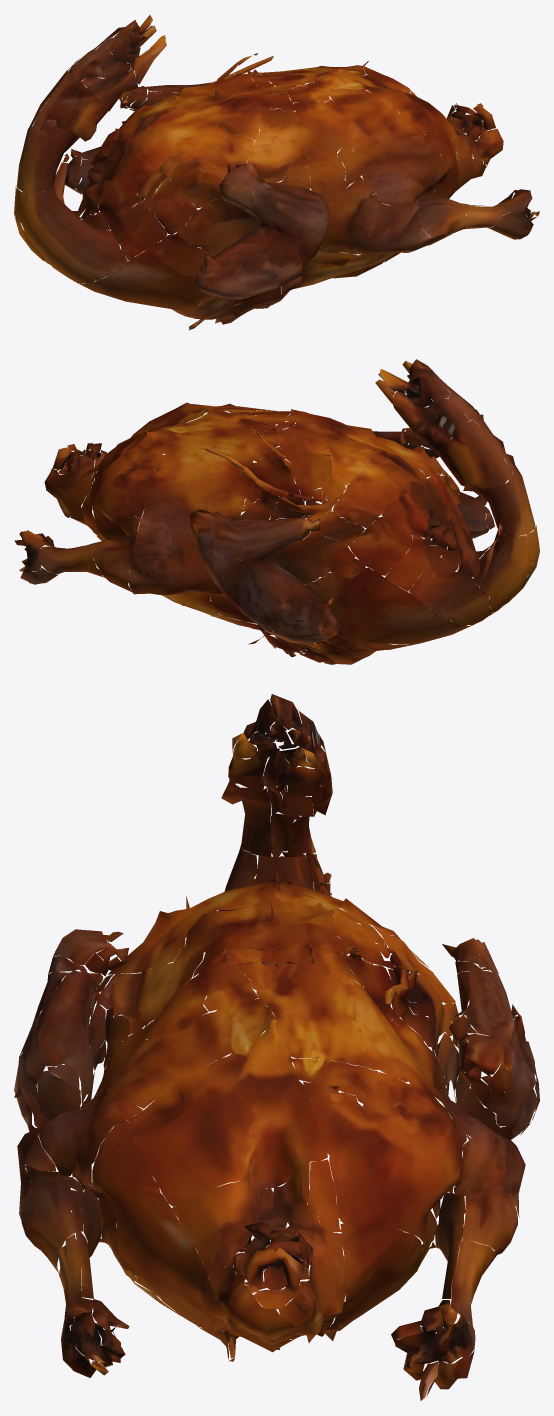
File: cooked_sea_bird.glb
3 views of the same model, one above another, from view 1: azimuth 30°, elevation 25°; view 2: azimuth 150°, elevation 25°; view 3: azimuth 270°, elevation 25° (orthographic). The views are drawn at different scales.
Visible parts, largest first — view 1: tripo_node_e904d48e-e323-4d41-8091-ff12e71c5930; view 2: tripo_node_e904d48e-e323-4d41-8091-ff12e71c5930; view 3: tripo_node_e904d48e-e323-4d41-8091-ff12e71c5930.
Boxes of the visible parts, x1,y1,x2,y2 form: tripo_node_e904d48e-e323-4d41-8091-ff12e71c5930: [14, 15, 539, 329]; tripo_node_e904d48e-e323-4d41-8091-ff12e71c5930: [14, 359, 539, 664]; tripo_node_e904d48e-e323-4d41-8091-ff12e71c5930: [14, 694, 539, 1400].
Bounding box in the file's own units: 1 × 0.6276 × 0.5843.
Materials: 1 (1 with a texture image).
